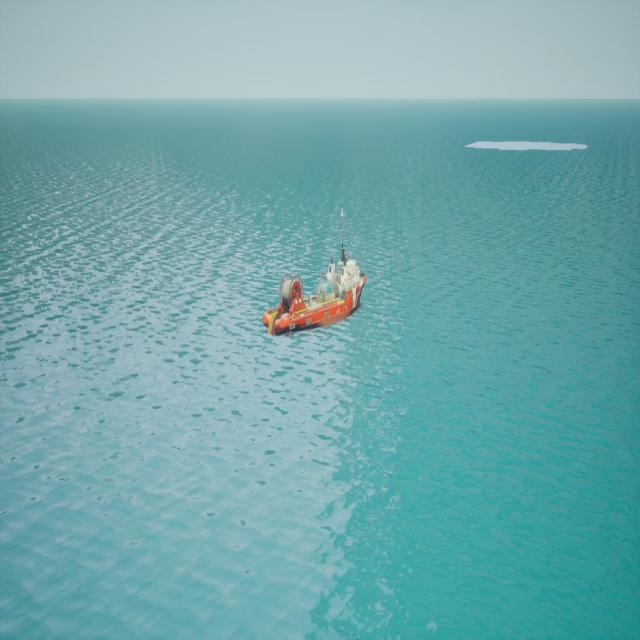tug boat: (263, 211, 369, 343)
